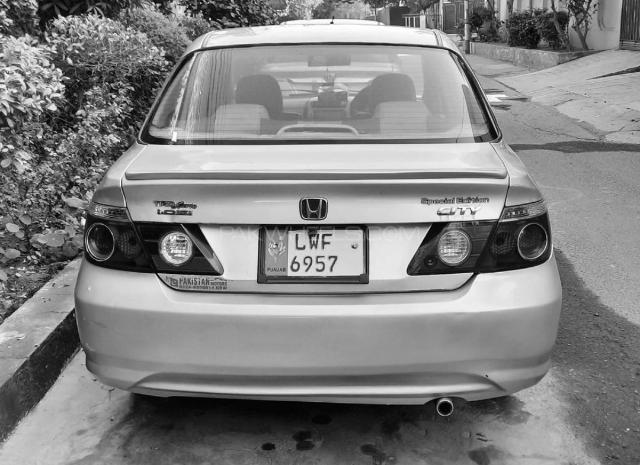Number: (288, 231, 344, 274)
